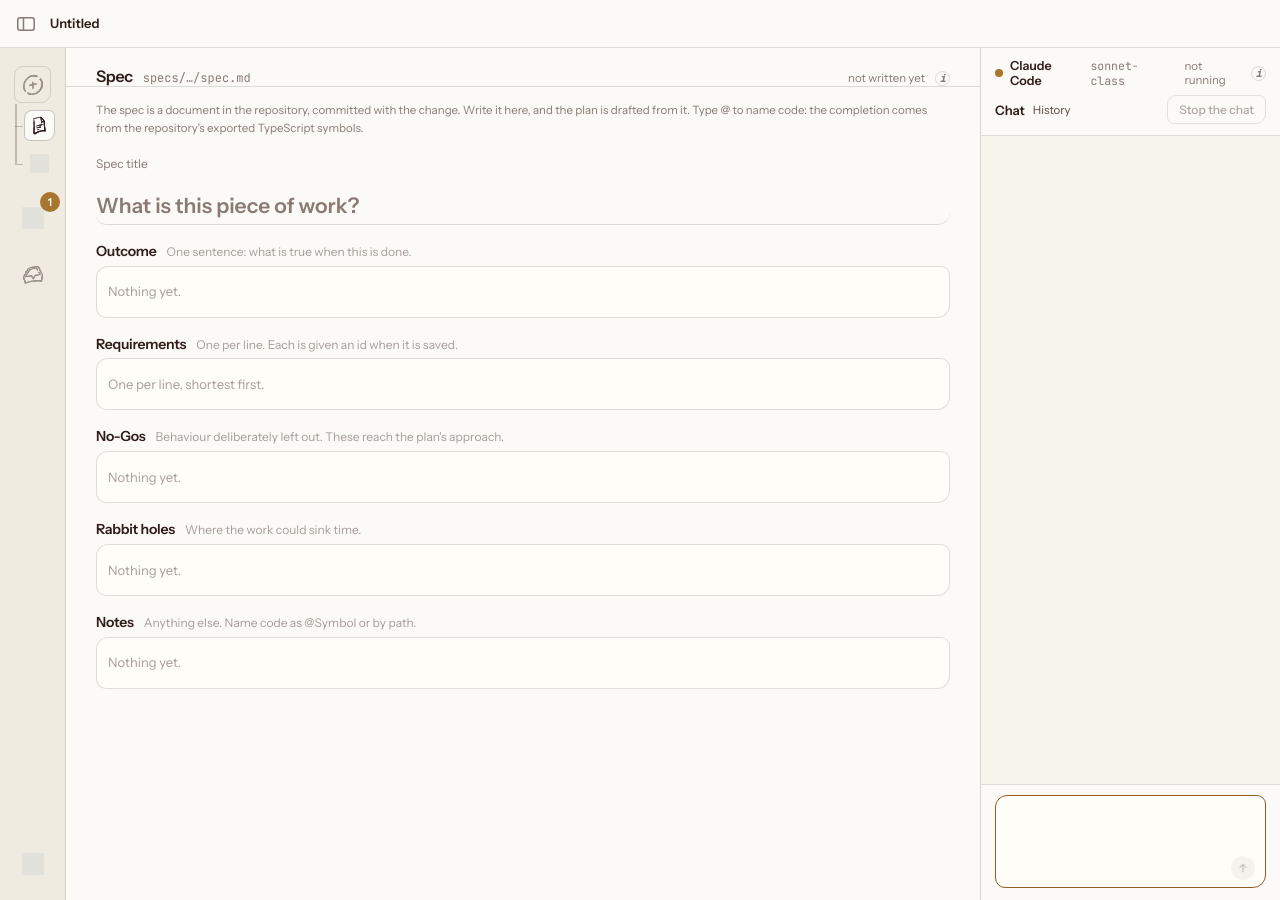
Test case: clicking away from a planning nothing was put into (D-129) › is not a move between its own panes
Expected: the field labelled "Spec title" is shown, [96,189,950,225]
Click the button named "Explorer": (40, 164) [24,148,55,179]
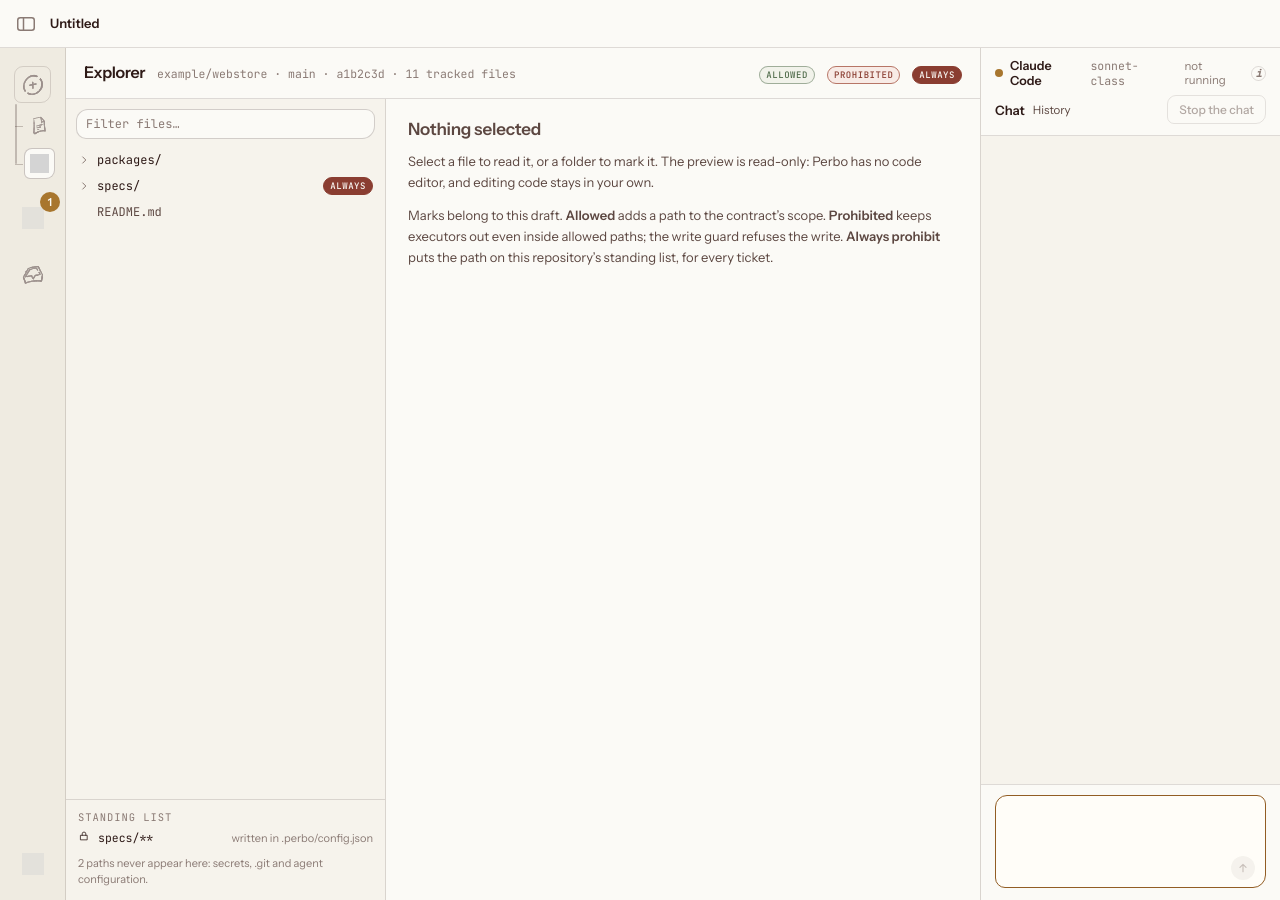
Now the element named "Tracked files" is shown, box [78,152,373,220]
Click the button named "Spec": (40, 126) [24,110,55,141]
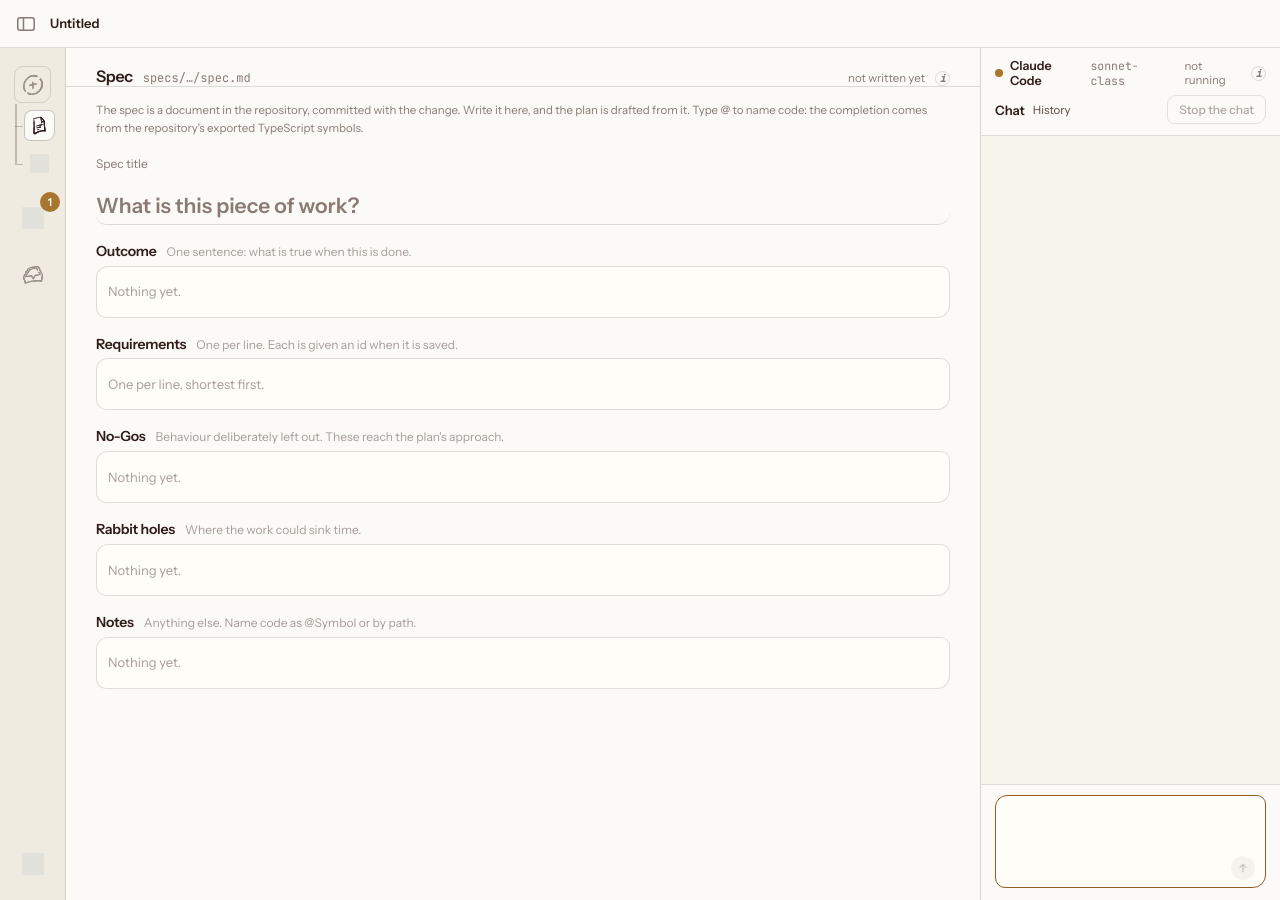
Expected: the element named "Planning panes" is shown, [12,110,55,179]
Now the field labelled "Spec title" is shown, box [96,189,950,225]
